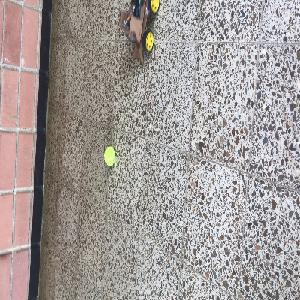Ball: (104, 146, 116, 165)
Robot: (118, 0, 160, 64)
